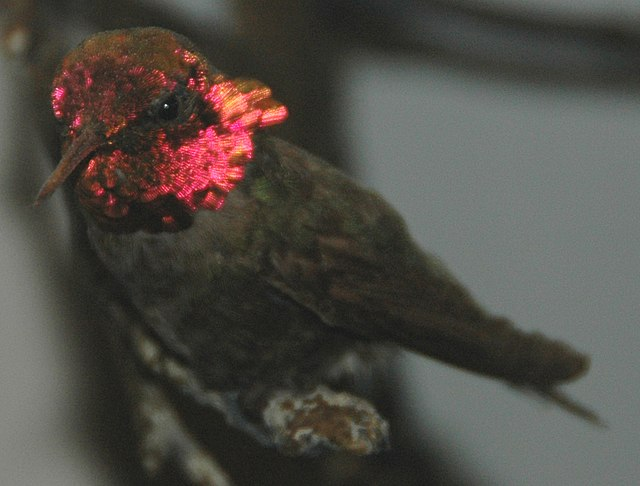calypte anna: (35, 23, 586, 399)
